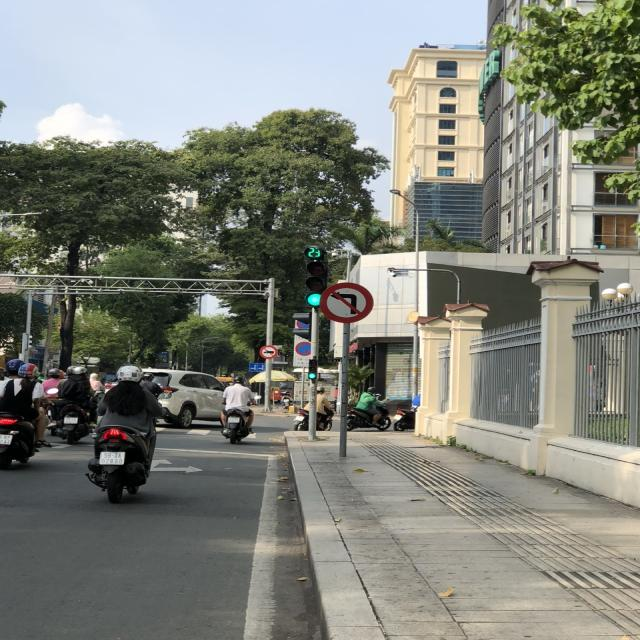Bien bao cam re trai: (312, 279, 381, 324)
Bien bao cam xe so-mi ro-mooc: (260, 344, 278, 359)
